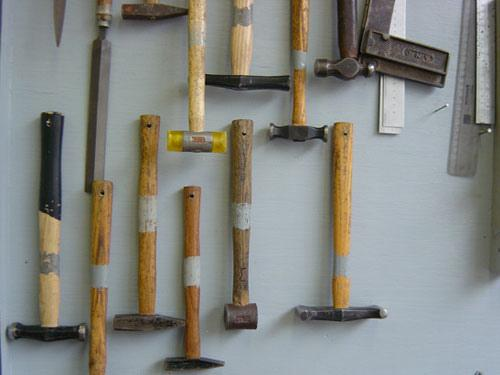hammer: (312, 0, 375, 81)
